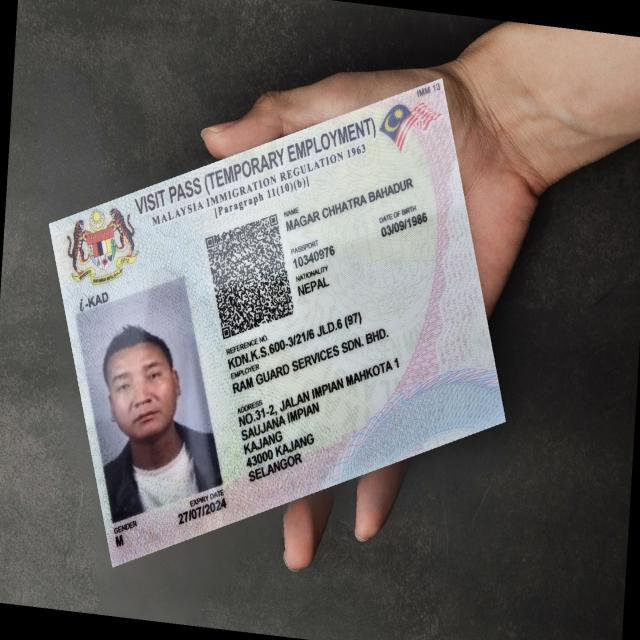ikad-temp: (48, 75, 506, 568)
